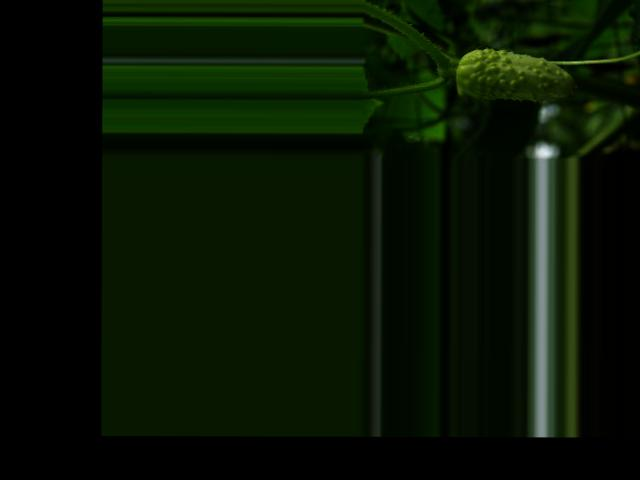cucumber: (455, 47, 578, 101)
